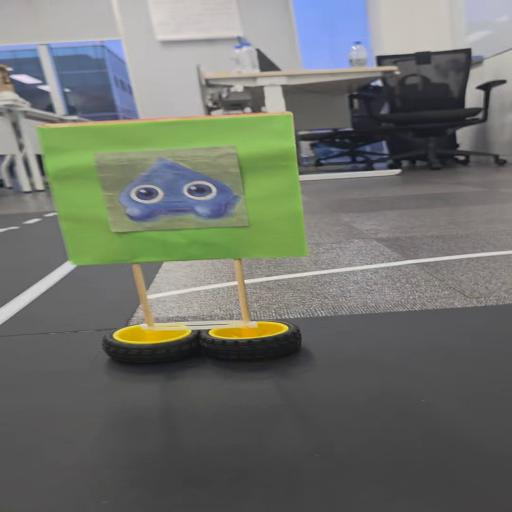Sign_B: (35, 110, 332, 362)
